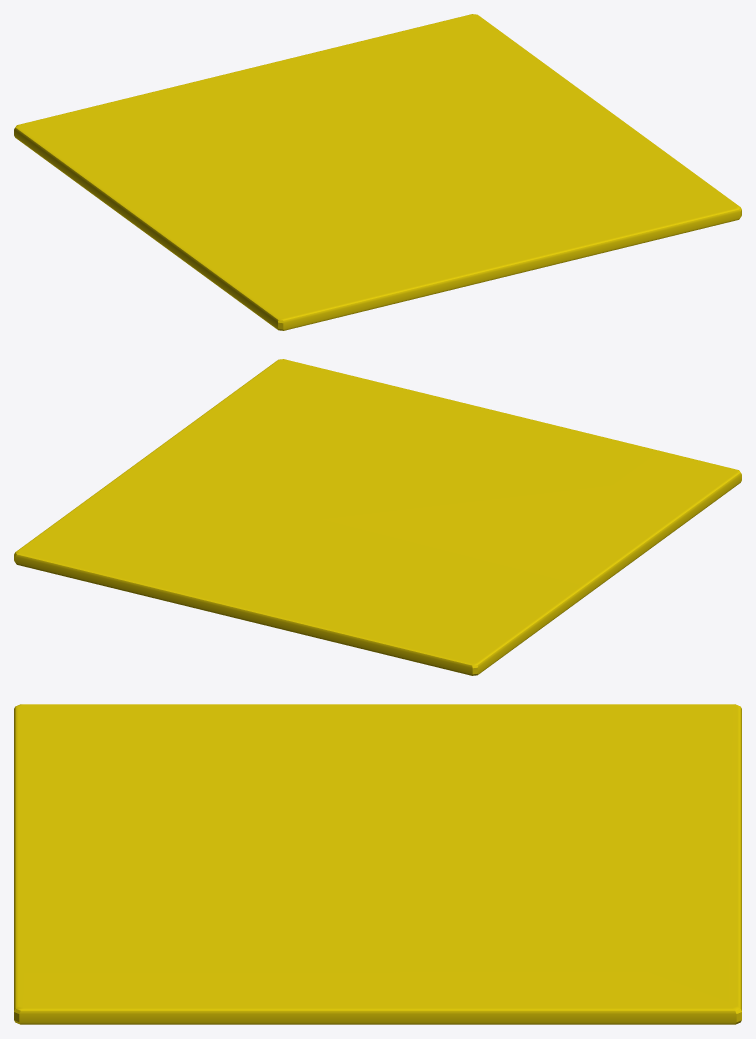
File: Cheese.fbx
3 views of the same model, one above another, from view 1: azimuth 30°, elevation 25°; view 2: azimuth 150°, elevation 25°; view 3: azimuth 270°, elevation 25° (orthographic). The views are drawn at different scales.
Visible parts, largest first — view 1: pCube1; view 2: pCube1; view 3: pCube1.
Part boxes in pixels (bbox=[...]): pCube1: bbox=[14, 14, 741, 330]; pCube1: bbox=[14, 359, 741, 675]; pCube1: bbox=[14, 704, 741, 1024].
Size of the model in its own units: 10 by 0.25 by 10.
